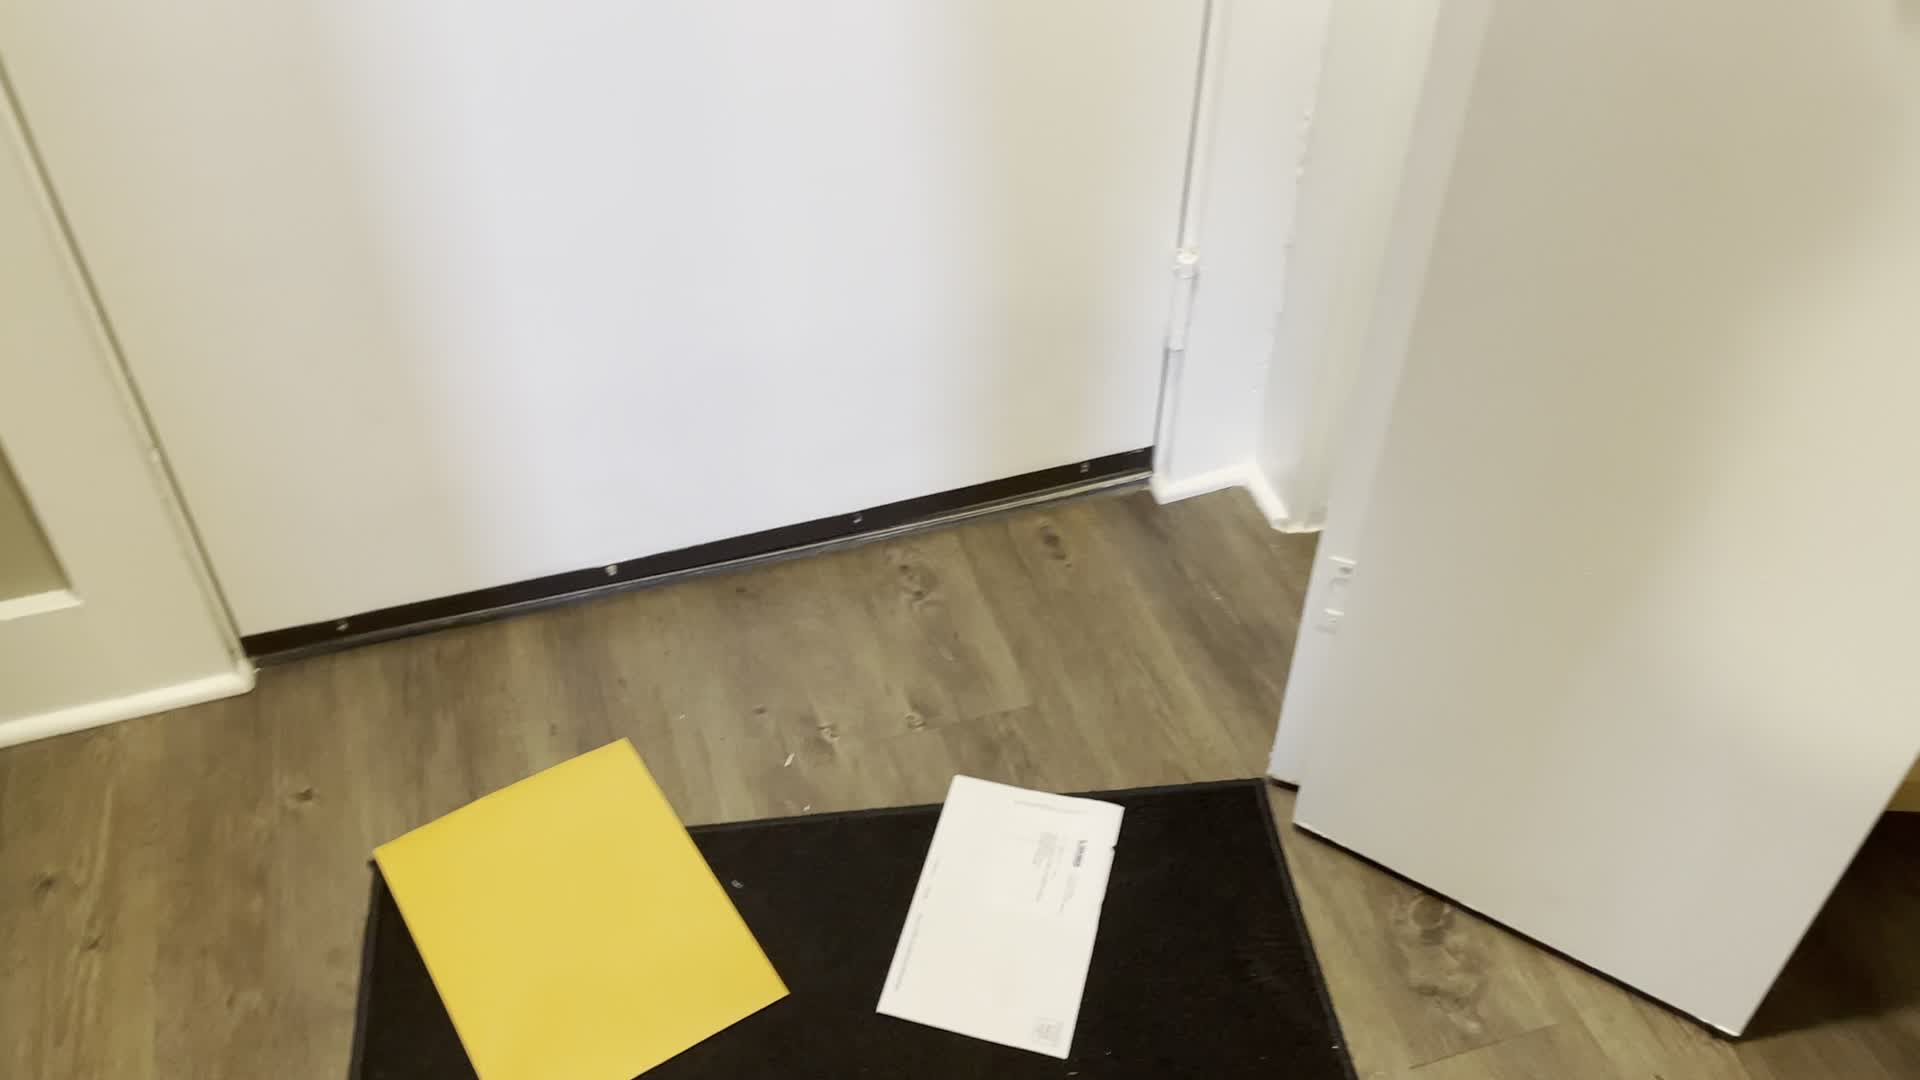envelope: (359, 725, 791, 1077), (866, 762, 1131, 1064)
